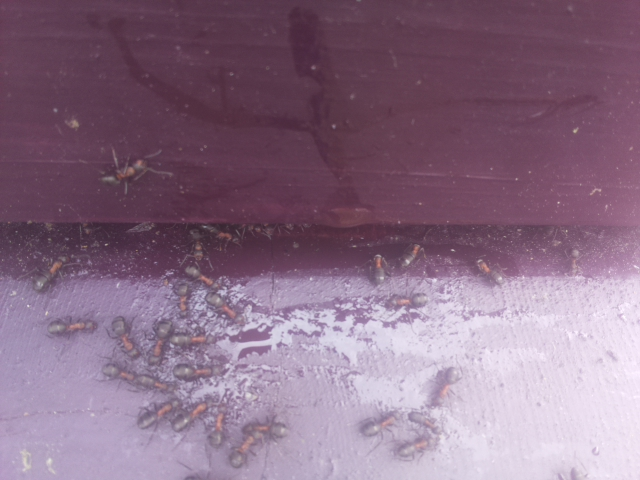ant: (226, 409, 293, 474), (97, 357, 170, 399), (26, 243, 77, 300), (89, 151, 155, 195), (128, 389, 187, 436), (105, 309, 145, 366), (198, 287, 252, 329), (166, 396, 215, 439), (177, 259, 230, 296), (142, 314, 177, 369), (41, 313, 102, 341), (356, 408, 407, 439), (428, 361, 460, 409), (473, 254, 507, 289), (390, 435, 436, 460), (169, 361, 222, 382), (367, 249, 391, 290), (388, 290, 435, 310), (207, 406, 227, 452), (397, 240, 425, 270), (174, 281, 190, 315)
